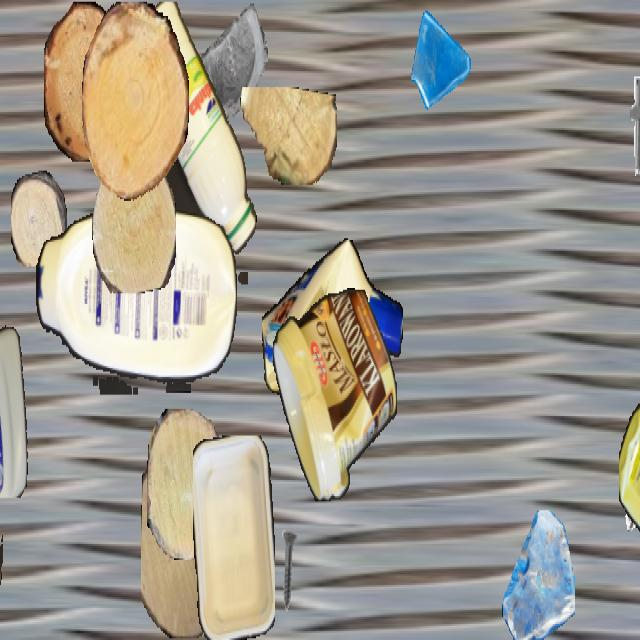glass: (502, 510, 574, 638), (196, 2, 268, 130), (409, 1, 473, 116)
metal: (206, 439, 266, 546), (264, 528, 312, 613), (612, 71, 640, 178), (619, 453, 640, 535)
plastic: (36, 210, 236, 394), (128, 1, 258, 282), (272, 288, 396, 501), (262, 237, 402, 407), (193, 436, 275, 638), (0, 313, 31, 498), (619, 393, 640, 599), (0, 457, 3, 638)
wood: (82, 2, 188, 201), (141, 439, 229, 638), (44, 2, 126, 162), (92, 150, 176, 292), (147, 409, 227, 558), (239, 87, 337, 183), (11, 170, 67, 266)
